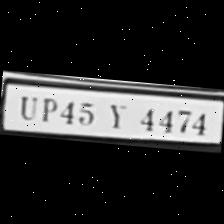4: (134, 103, 159, 133), (188, 107, 210, 136), (57, 96, 77, 126), (154, 104, 174, 132)
5: (72, 98, 98, 128)
7: (173, 106, 192, 132)
P: (36, 94, 58, 124)
U: (14, 90, 38, 120)
Y: (100, 99, 132, 130)
